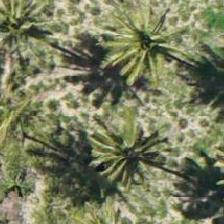coconut_tree: (98, 1, 188, 91), (82, 91, 172, 181), (0, 93, 85, 183), (0, 0, 53, 75)
